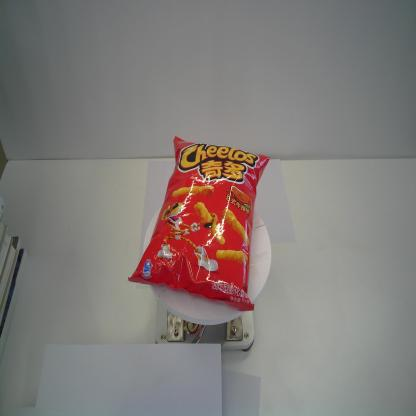Puffed Food: (126, 135, 272, 312)
